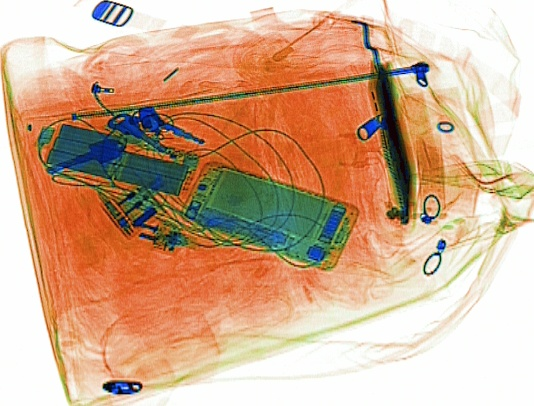powerbank: (42, 120, 201, 198)
